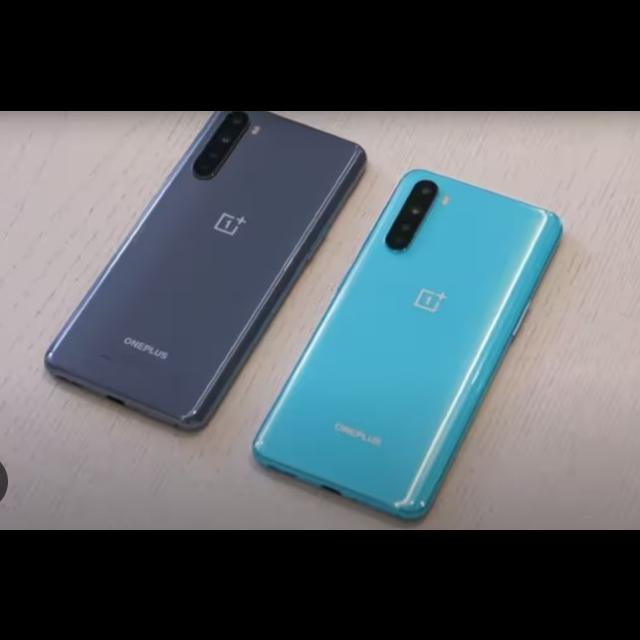Smartphone: (250, 169, 565, 521), (42, 110, 368, 431)
